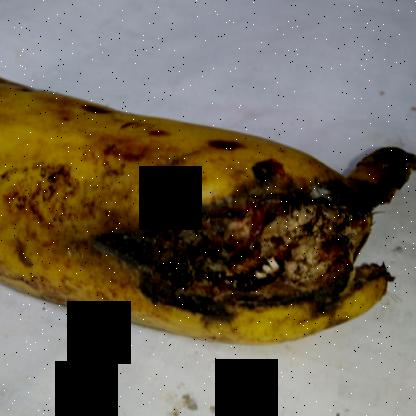rotten: (128, 106, 404, 338)
